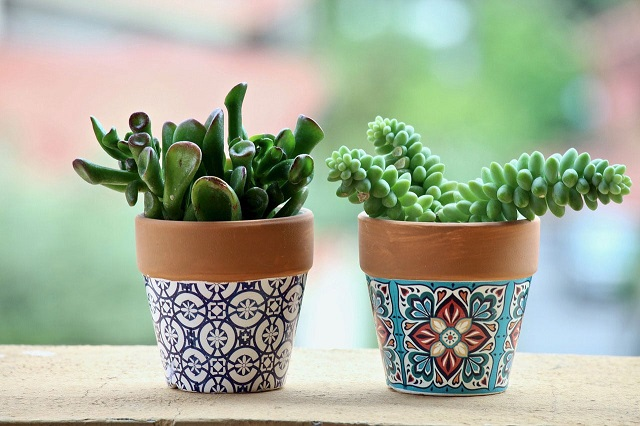plant: (325, 113, 633, 397), (74, 80, 325, 392)
